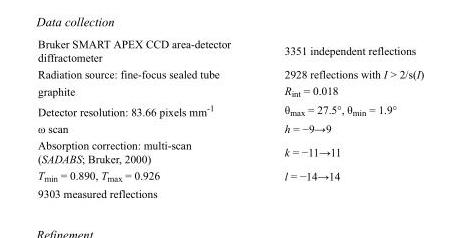table: (37, 37, 423, 199)
table column: (37, 37, 256, 199), (256, 37, 423, 199)
table row: (37, 136, 423, 166), (37, 37, 423, 65), (37, 81, 423, 100), (37, 100, 423, 119), (37, 166, 423, 184), (37, 119, 423, 136), (37, 65, 423, 81), (37, 184, 423, 199)
